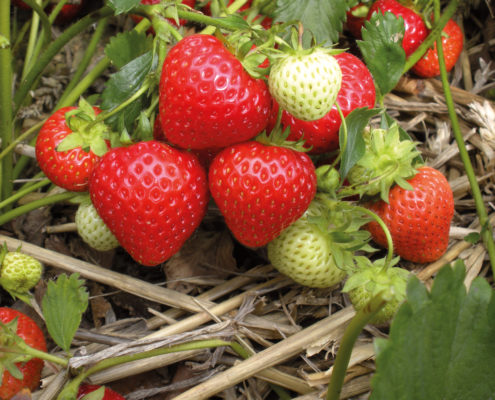ripe_strawberry: (87, 141, 208, 268), (158, 34, 274, 152), (209, 141, 320, 251), (265, 51, 377, 156), (364, 165, 455, 265), (36, 103, 113, 196), (345, 1, 428, 61), (1, 304, 50, 400), (411, 13, 464, 81)
unripe_strawberry: (266, 198, 356, 290), (268, 48, 343, 123), (349, 269, 409, 326), (76, 194, 121, 254), (1, 250, 46, 293)
